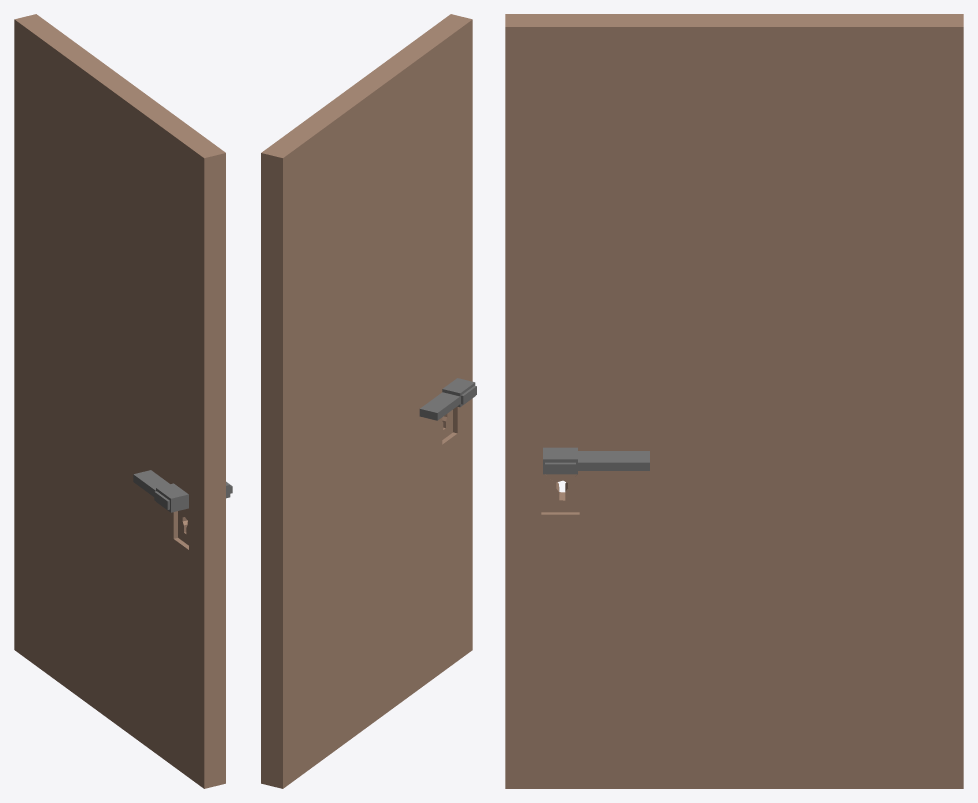
The model's file is storeroom_door.glb.
3 views of the same model, side by side, from view 1: azimuth 30°, elevation 25°; view 2: azimuth 150°, elevation 25°; view 3: azimuth 270°, elevation 25° (orthographic). The views are drawn at different scales.
Parts seen in each view (by area): view 1: Cube.001; view 2: Cube.001; view 3: Cube.001.
Part boxes in pixels (x1,y1,x2,y2): Cube.001: [14, 14, 232, 788]; Cube.001: [261, 14, 476, 788]; Cube.001: [505, 14, 963, 788].
Size of the model in its own units: 0.4747 by 4.4 by 2.4.
